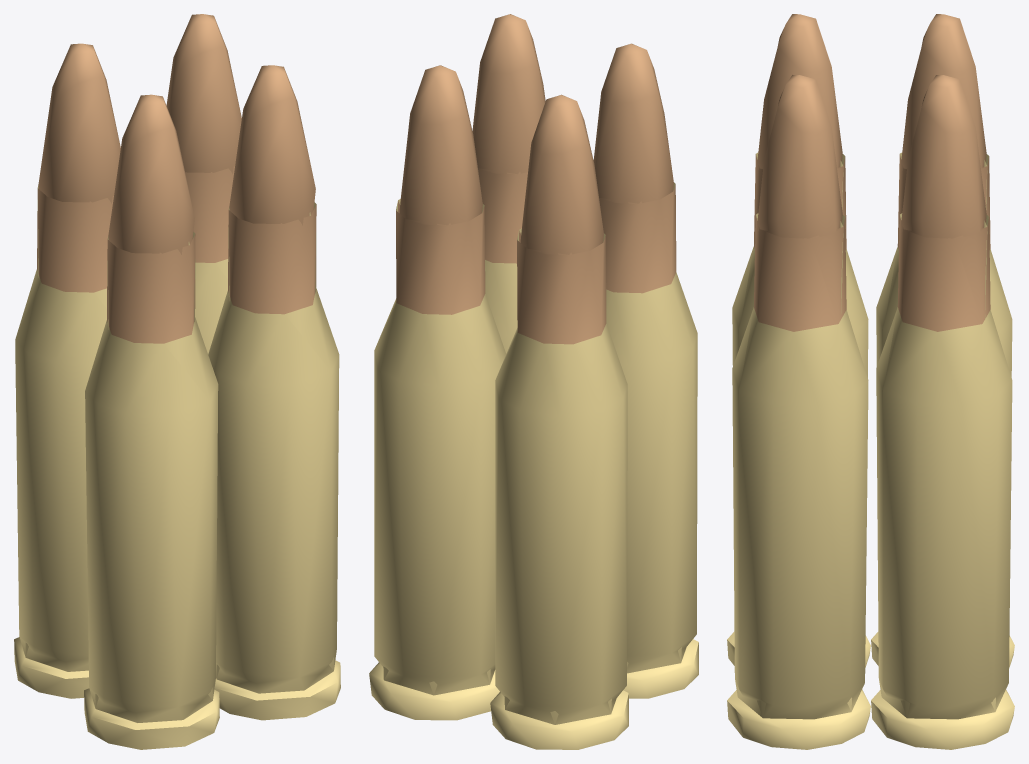
File: item_rifle_ammo.glb
The picture shows the model from 3 angles, left to right: view 1: azimuth 30°, elevation 25°; view 2: azimuth 150°, elevation 25°; view 3: azimuth 270°, elevation 25°; orthographic projection. The views are drawn at different scales.
Visible parts, largest first — view 1: RifleRounds_submesh_0, RifleRounds_submesh_1; view 2: RifleRounds_submesh_0, RifleRounds_submesh_1; view 3: RifleRounds_submesh_0, RifleRounds_submesh_1.
Part boxes in pixels (x1,y1,x2,y2): RifleRounds_submesh_0: [14, 186, 340, 749]; RifleRounds_submesh_1: [37, 14, 316, 343]; RifleRounds_submesh_0: [369, 182, 698, 749]; RifleRounds_submesh_1: [396, 14, 676, 344]; RifleRounds_submesh_0: [727, 152, 1014, 749]; RifleRounds_submesh_1: [754, 14, 990, 331].
Size of the model in its own units: 0.0326 by 0.0806 by 0.0326.
